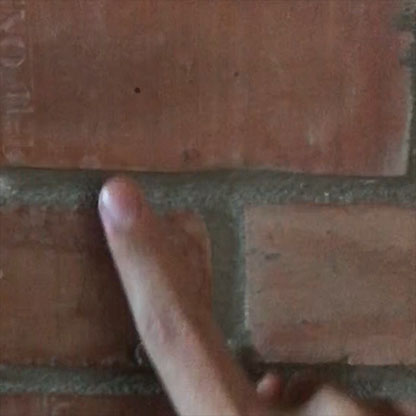fingertip: (80, 168, 161, 240)
